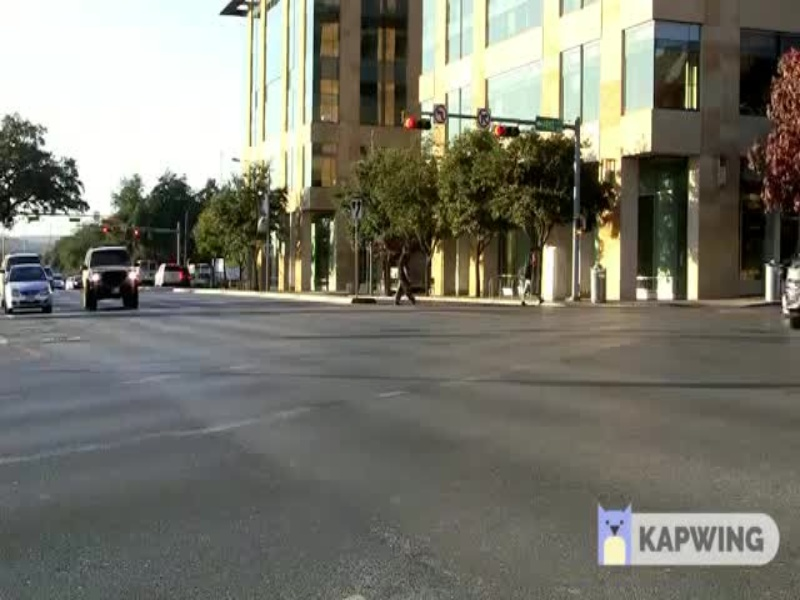car: (2, 258, 56, 316)
suv: (74, 247, 145, 319)
